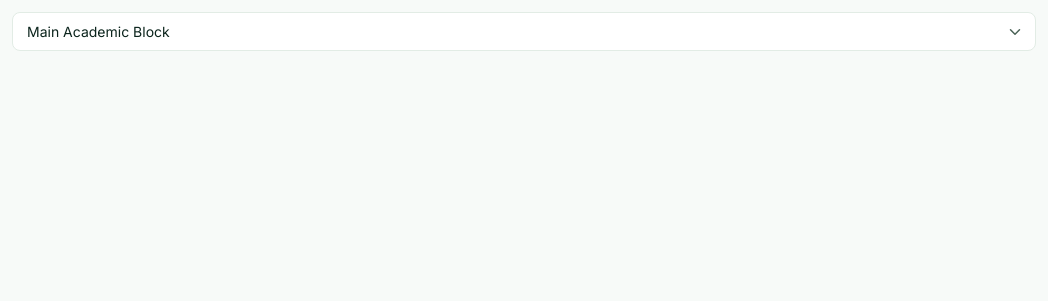
Test: EditableCombobox & Taxonomy Integration › renders with initial value and shows dropdown suggestions on click
Check: the field with placeholder "Type or select building" holds "Main Academic Block", box [12,12,1036,51]
Note: Click toggle to open suggestions
Click the button named "Toggle suggestions for building".
click(1015, 32)  # box [1006,22,1024,40]
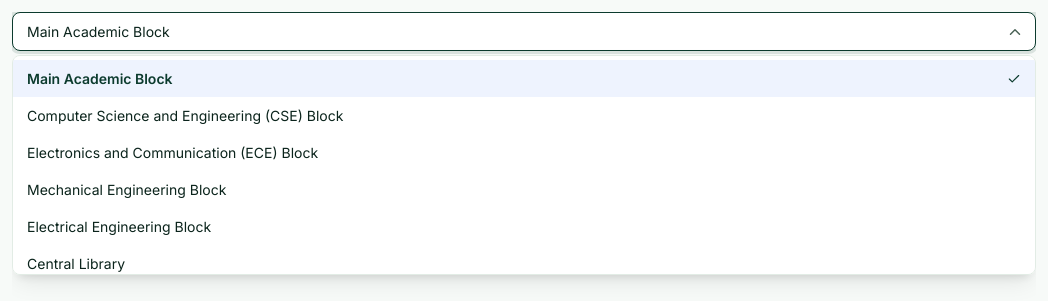
Check: the text "Computer Science and Engineering (CSE) Block" is shown, box [27,105,343,126]
